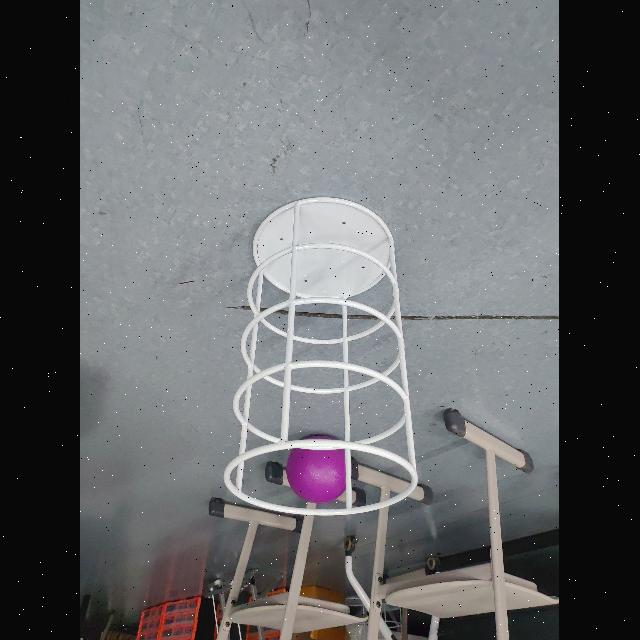S: (220, 193, 420, 519)
